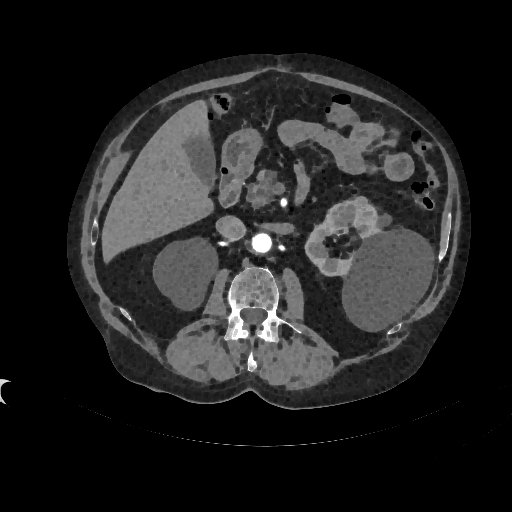Lesion: (356, 194, 370, 207)
